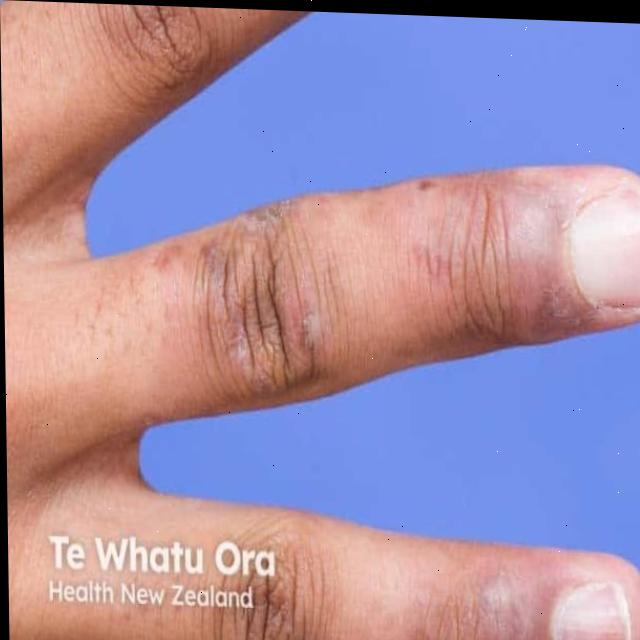Eczema: (172, 201, 594, 359), (402, 531, 542, 640)
